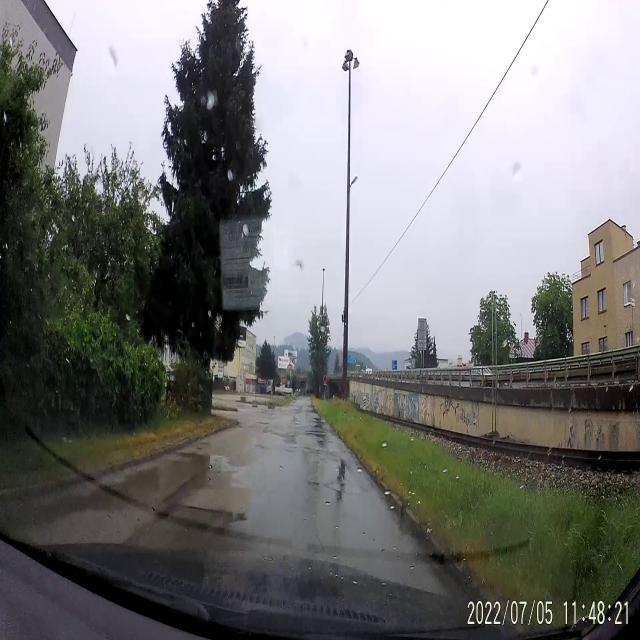Pothole: (168, 502, 244, 534), (318, 468, 358, 496), (271, 430, 300, 450), (304, 426, 330, 444), (256, 416, 270, 426), (312, 416, 324, 425)
